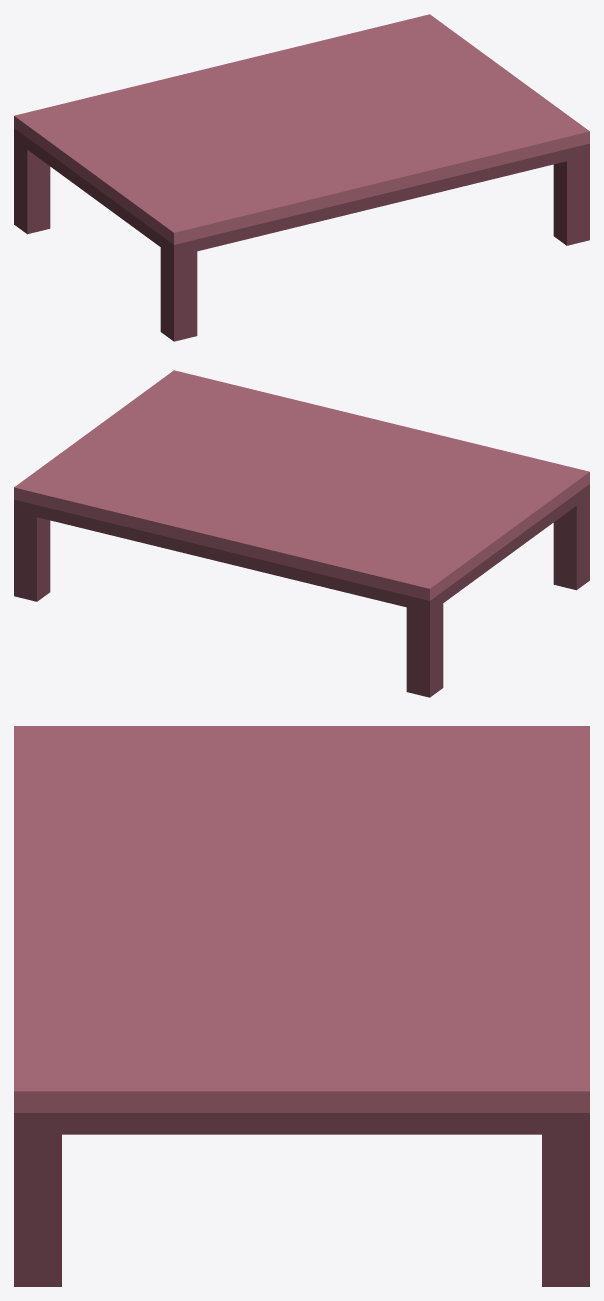
File: mesa_banquete_noble_01.glb
3 renders of one model, top to bottom at view 1: azimuth 30°, elevation 25°; view 2: azimuth 150°, elevation 25°; view 3: azimuth 270°, elevation 25°, orthographic. The views are drawn at different scales.
Visible parts, largest first — view 1: mesa_banquete_noble; view 2: mesa_banquete_noble; view 3: mesa_banquete_noble.
Part boxes in pixels (x1,y1,x2,y2): mesa_banquete_noble: (14, 14, 589, 341); mesa_banquete_noble: (14, 370, 589, 697); mesa_banquete_noble: (14, 726, 589, 1286).
Bounding box in the file's own units: 3 × 0.75 × 2.
